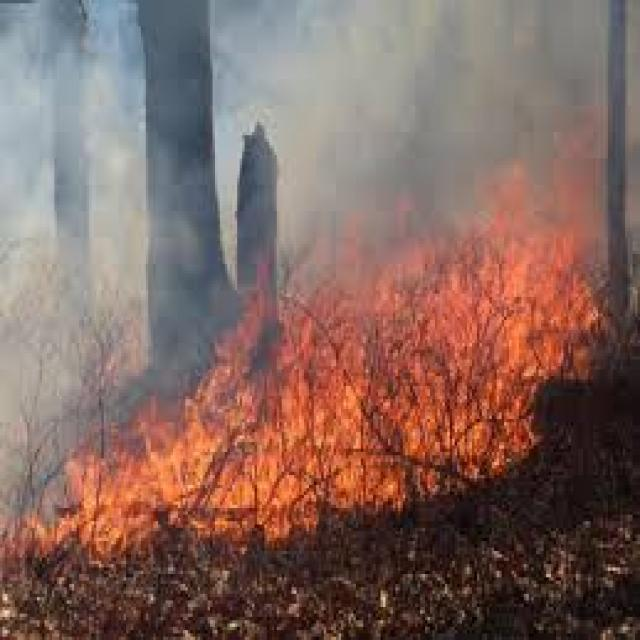Fire: (358, 252, 536, 514), (424, 181, 616, 392), (2, 416, 228, 568), (193, 320, 351, 532)
Smoke: (286, 0, 640, 303), (0, 0, 125, 396)
